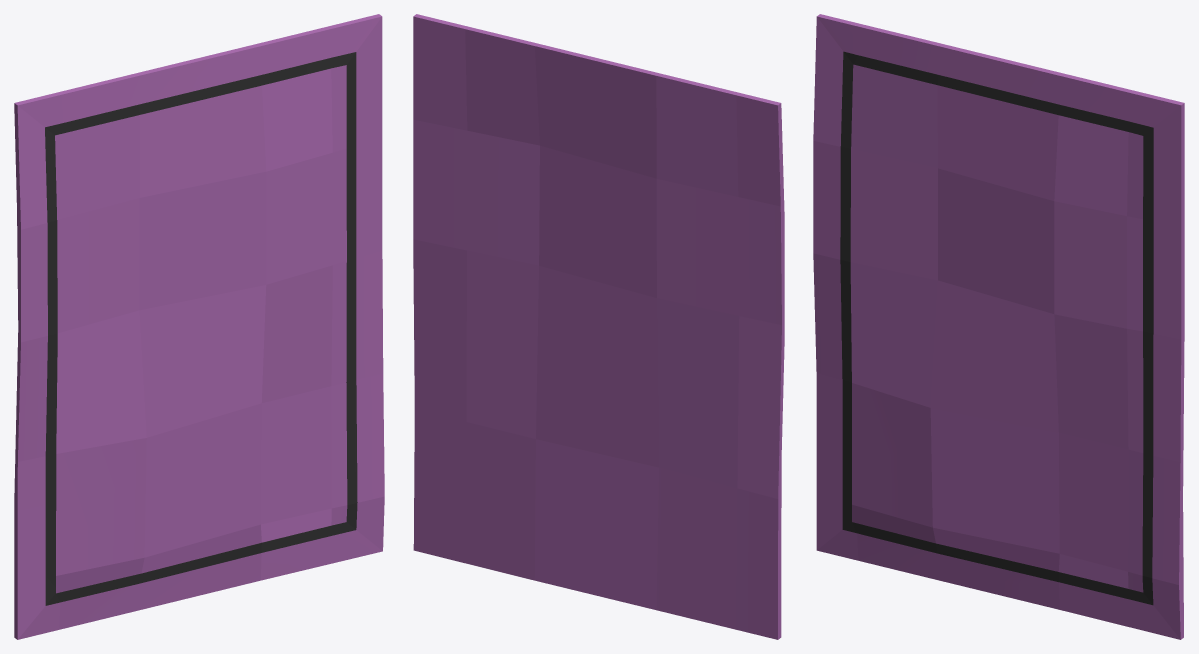
The model's file is Int_WallPaper01_4.fbx.
3 renders of one model, left to right at view 1: azimuth 30°, elevation 25°; view 2: azimuth 150°, elevation 25°; view 3: azimuth 330°, elevation 25°, orthographic.
Visible parts, largest first — view 1: Int_WallPaper01_4; view 2: Int_WallPaper01_4; view 3: Int_WallPaper01_4.
Boxes of the visible parts, left/top/right/bottom form: Int_WallPaper01_4: left=14, top=14, right=384, bottom=639; Int_WallPaper01_4: left=413, top=14, right=784, bottom=639; Int_WallPaper01_4: left=813, top=14, right=1184, bottom=639.
Size of what is drawn, in the model's own units: 50.23 by 2.63 by 70.32.
